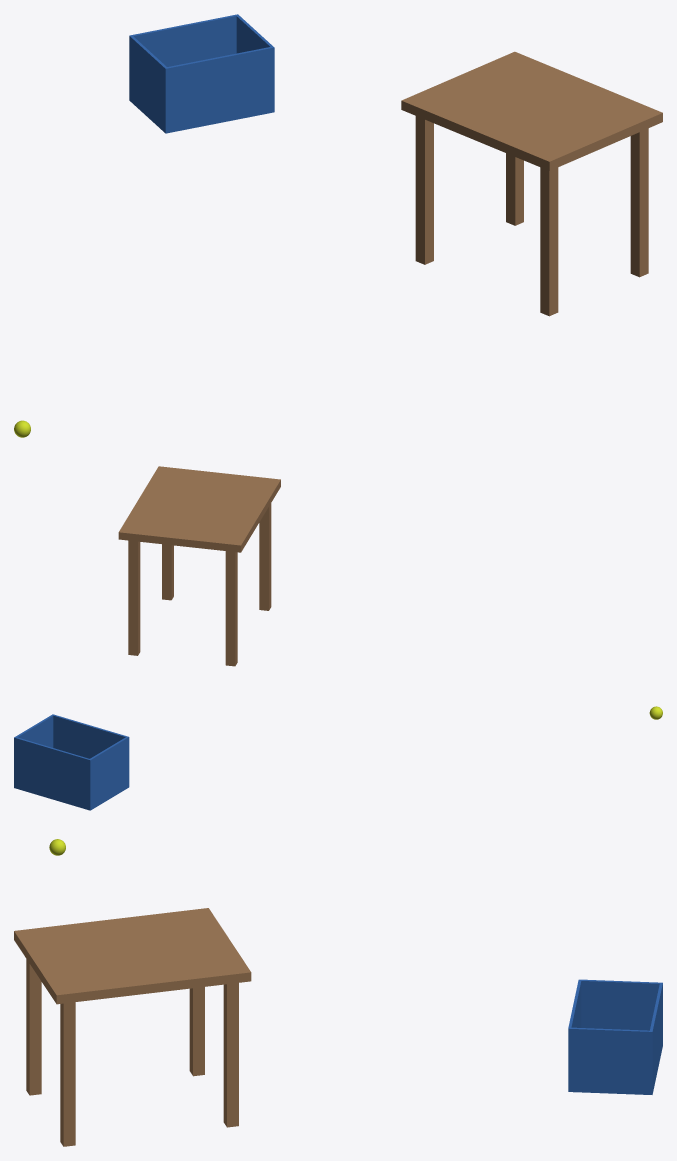
Rendered from g1_15_throw_props.glb.
The picture shows the model from 3 angles, top to bottom: view 1: azimuth 30°, elevation 25°; view 2: azimuth 150°, elevation 25°; view 3: azimuth 270°, elevation 25°; orthographic projection. The views are drawn at different scales.
Visible parts, largest first — view 1: s000, s007, s006, s001, s002, s003, s008, s004, s009; view 2: s000, s006, s008, s007, s002, s004, s001, s009, s003; view 3: s000, s009, s008, s003, s004, s001, s002, s006.
Part boxes in pixels (box(x1,y1,x2,y2)): s000: box(401, 51, 662, 170); s007: box(164, 47, 274, 133); s006: box(129, 14, 238, 66); s001: box(540, 167, 558, 316); s002: box(415, 116, 433, 264); s003: box(630, 128, 648, 277); s008: box(129, 35, 167, 131); s004: box(506, 153, 523, 225); s009: box(236, 14, 273, 53); s000: box(118, 466, 280, 552); s006: box(14, 737, 90, 807); s008: box(88, 737, 127, 810); s007: box(53, 714, 129, 787); s002: box(225, 551, 237, 666); s004: box(128, 540, 140, 655); s001: box(259, 503, 271, 610); s009: box(14, 714, 53, 788); s003: box(162, 544, 173, 600); s000: box(14, 908, 251, 1004); s009: box(568, 1027, 652, 1092); s008: box(581, 979, 662, 1043); s003: box(60, 1002, 75, 1146); s004: box(223, 983, 238, 1127); s001: box(26, 959, 41, 1095); s002: box(189, 987, 204, 1076); s006: box(649, 982, 662, 1092).
Bounding box in the file's own units: 2.93 × 0.7277 × 2.61.
